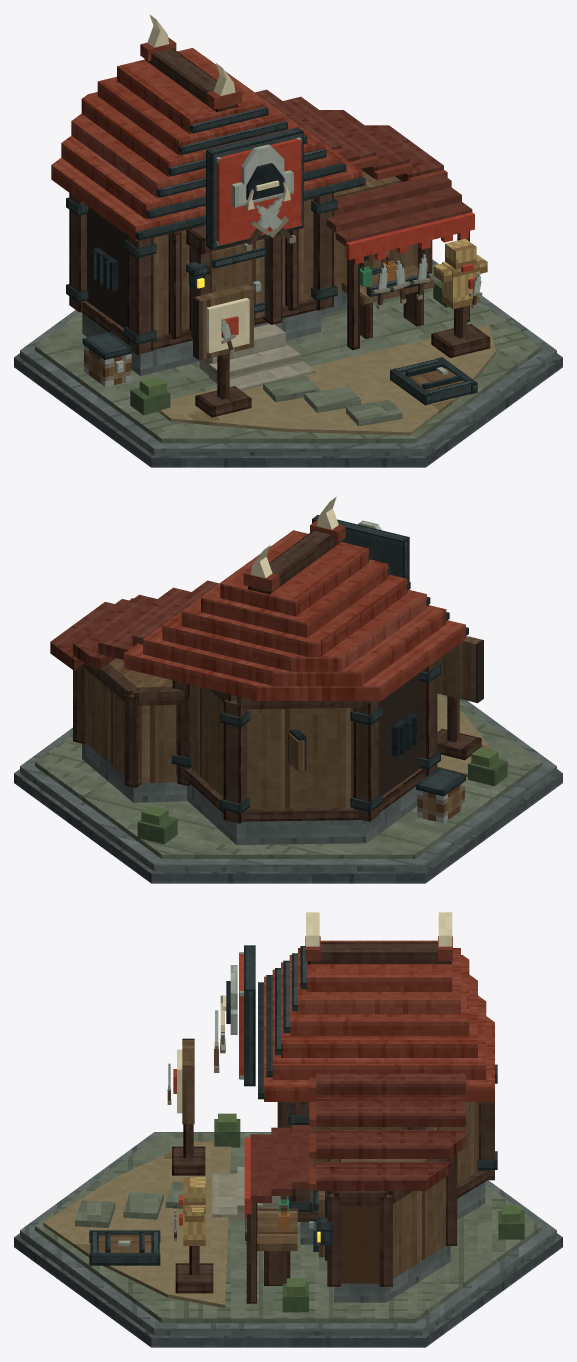
The model's file is orc_rogue_guild_hex_v1.glb.
3 renders of one model, top to bottom at view 1: azimuth 30°, elevation 25°; view 2: azimuth 150°, elevation 25°; view 3: azimuth 270°, elevation 25°, orthographic.
Visible parts, largest first — view 1: Orc_Rogue_Guild_Hex_V1_Roofs, Orc_Rogue_Guild_Hex_V1_Foundation, Orc_Rogue_Guild_Hex_V1_Hall, Orc_Rogue_Guild_Hex_V1_Courtyard, Orc_Rogue_Guild_Hex_V1_Training, Orc_Rogue_Guild_Hex_V1_Details, Orc_Rogue_Guild_Hex_V1_Faction, Orc_Rogue_Guild_Hex_V1_Annex; view 2: Orc_Rogue_Guild_Hex_V1_Roofs, Orc_Rogue_Guild_Hex_V1_Hall, Orc_Rogue_Guild_Hex_V1_Foundation, Orc_Rogue_Guild_Hex_V1_Annex, Orc_Rogue_Guild_Hex_V1_Details, Orc_Rogue_Guild_Hex_V1_Training, Orc_Rogue_Guild_Hex_V1_Courtyard; view 3: Orc_Rogue_Guild_Hex_V1_Roofs, Orc_Rogue_Guild_Hex_V1_Foundation, Orc_Rogue_Guild_Hex_V1_Courtyard, Orc_Rogue_Guild_Hex_V1_Annex, Orc_Rogue_Guild_Hex_V1_Training, Orc_Rogue_Guild_Hex_V1_Details, Orc_Rogue_Guild_Hex_V1_Hall, Orc_Rogue_Guild_Hex_V1_Faction.
Part boxes in pixels (x1,y1,x2,y2): Orc_Rogue_Guild_Hex_V1_Roofs: (51, 15, 472, 245); Orc_Rogue_Guild_Hex_V1_Foundation: (14, 259, 562, 467); Orc_Rogue_Guild_Hex_V1_Hall: (66, 193, 337, 375); Orc_Rogue_Guild_Hex_V1_Courtyard: (158, 324, 496, 435); Orc_Rogue_Guild_Hex_V1_Training: (193, 238, 490, 417); Orc_Rogue_Guild_Hex_V1_Details: (82, 127, 449, 415); Orc_Rogue_Guild_Hex_V1_Faction: (216, 138, 474, 264); Orc_Rogue_Guild_Hex_V1_Annex: (321, 169, 469, 349); Orc_Rogue_Guild_Hex_V1_Roofs: (50, 497, 468, 700); Orc_Rogue_Guild_Hex_V1_Hall: (171, 660, 440, 844); Orc_Rogue_Guild_Hex_V1_Foundation: (14, 694, 562, 883); Orc_Rogue_Guild_Hex_V1_Annex: (73, 658, 190, 802); Orc_Rogue_Guild_Hex_V1_Details: (137, 515, 507, 844); Orc_Rogue_Guild_Hex_V1_Training: (437, 636, 483, 760); Orc_Rogue_Guild_Hex_V1_Courtyard: (437, 693, 491, 777); Orc_Rogue_Guild_Hex_V1_Roofs: (250, 912, 494, 1202); Orc_Rogue_Guild_Hex_V1_Foundation: (14, 1132, 562, 1347); Orc_Rogue_Guild_Hex_V1_Courtyard: (43, 1141, 280, 1307); Orc_Rogue_Guild_Hex_V1_Annex: (246, 1153, 457, 1303); Orc_Rogue_Guild_Hex_V1_Training: (167, 1038, 297, 1293); Orc_Rogue_Guild_Hex_V1_Details: (214, 945, 524, 1312); Orc_Rogue_Guild_Hex_V1_Hall: (277, 1064, 497, 1244); Orc_Rogue_Guild_Hex_V1_Faction: (239, 952, 251, 1218).
Size of the model in its own units: 1.59 by 1.13 by 1.84.
Materials: 1 (1 with a texture image).
